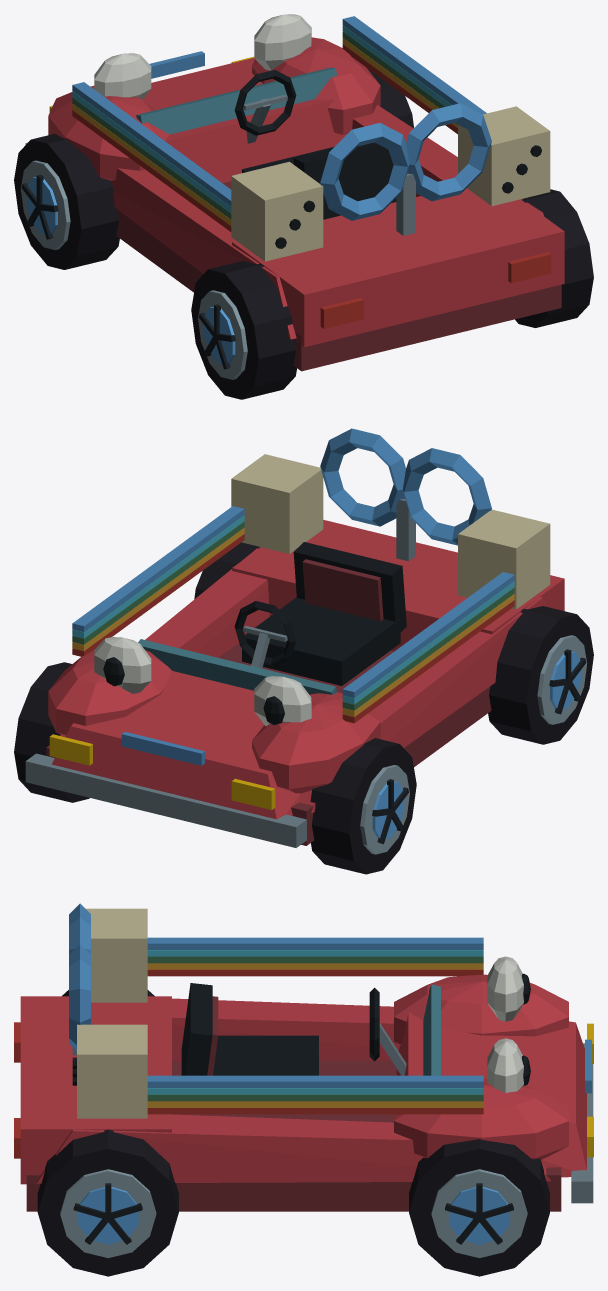
Rendered from kart.glb.
3 views of the same model, one above another, from view 1: azimuth 30°, elevation 25°; view 2: azimuth 150°, elevation 25°; view 3: azimuth 270°, elevation 25° (orthographic). The views are drawn at different scales.
Parts seen in each view (by area): view 1: identity-toy-car-toy-rounded-body-and-wind-up-key, identity-toy-car-motif-dice, identity-toy-car-motif-rainbow, wheel-rear-left, wheel-front-left, identity-toy-car-driver-cockpit, identity-toy-car-motif-eyes, wheel-rear-right, wheel-front-right; view 2: identity-toy-car-toy-rounded-body-and-wind-up-key, identity-toy-car-driver-cockpit, identity-toy-car-motif-rainbow, identity-toy-car-motif-dice, wheel-rear-left, wheel-front-left, identity-toy-car-motif-eyes, wheel-front-right, wheel-rear-right; view 3: identity-toy-car-toy-rounded-body-and-wind-up-key, identity-toy-car-motif-rainbow, wheel-rear-right, wheel-front-right, identity-toy-car-motif-dice, identity-toy-car-driver-cockpit, identity-toy-car-motif-eyes.
Boxes of the visible parts, x1,y1,x2,y2 form: identity-toy-car-toy-rounded-body-and-wind-up-key: [25, 37, 564, 371]; identity-toy-car-motif-dice: [231, 106, 550, 261]; identity-toy-car-motif-rainbow: [72, 16, 486, 231]; wheel-rear-left: [191, 261, 296, 399]; wheel-front-left: [14, 133, 119, 269]; identity-toy-car-driver-cockpit: [234, 70, 396, 219]; identity-toy-car-motif-eyes: [94, 14, 311, 99]; wheel-rear-right: [515, 189, 593, 327]; wheel-front-right: [367, 68, 413, 128]; identity-toy-car-toy-rounded-body-and-wind-up-key: [25, 428, 564, 847]; identity-toy-car-driver-cockpit: [234, 542, 406, 685]; identity-toy-car-motif-rainbow: [72, 506, 514, 723]; identity-toy-car-motif-dice: [231, 454, 550, 609]; wheel-rear-left: [488, 606, 593, 744]; wheel-front-left: [310, 738, 416, 874]; identity-toy-car-motif-eyes: [94, 637, 311, 726]; wheel-front-right: [14, 662, 89, 802]; wheel-rear-right: [194, 542, 260, 598]; identity-toy-car-toy-rounded-body-and-wind-up-key: [14, 903, 593, 1211]; identity-toy-car-motif-rainbow: [147, 937, 483, 1114]; wheel-rear-right: [37, 1129, 178, 1276]; wheel-front-right: [409, 1139, 549, 1276]; identity-toy-car-motif-dice: [72, 908, 147, 1118]; identity-toy-car-driver-cockpit: [181, 983, 406, 1075]; identity-toy-car-motif-eyes: [487, 956, 530, 1092].
Bounding box in the file's own units: 2.13 × 1.42 × 2.88.
